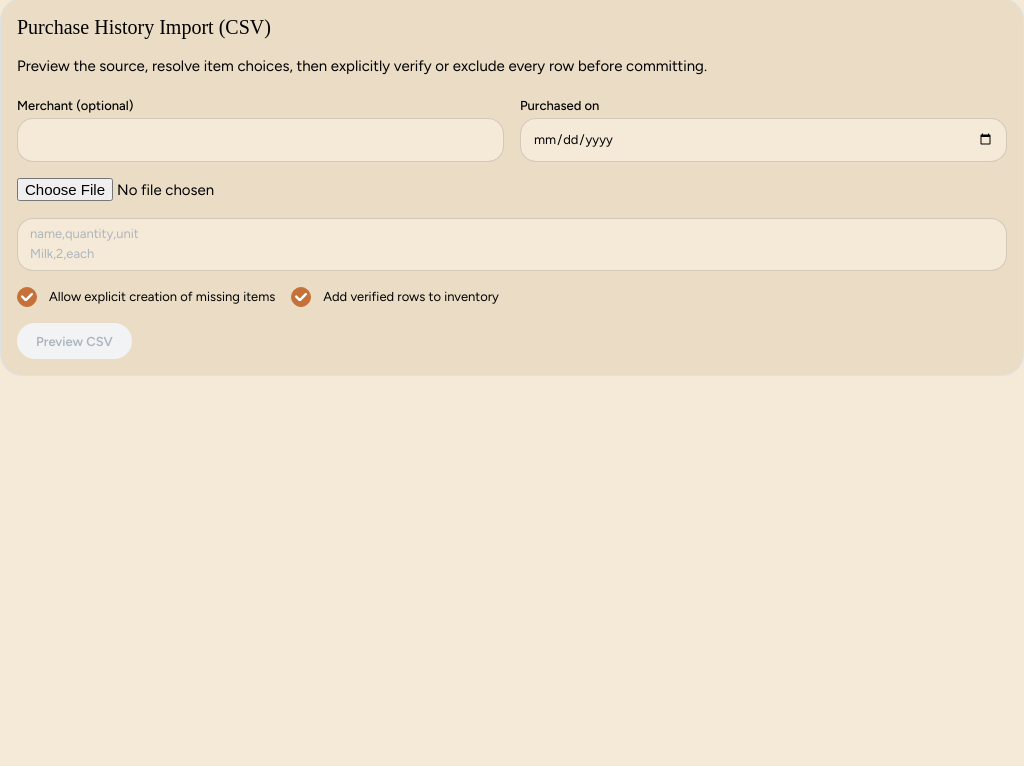
Reviewed purchase CSV › preserves manual completion when classifier is unavailable
This screenshot has width=1024, height=766.
Type "original CSV" into the text box named "Purchase CSV text" at (512, 244), box [17,218,1007,271]
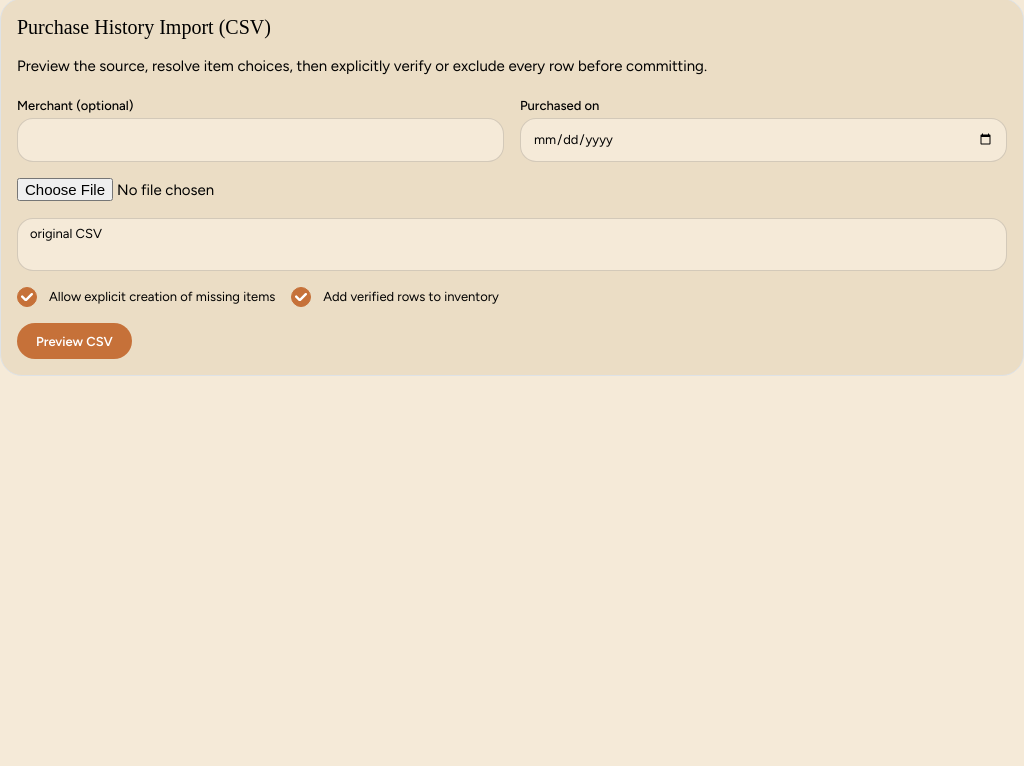
Click the button "Preview CSV" at (74, 341), box [17,323,132,359]
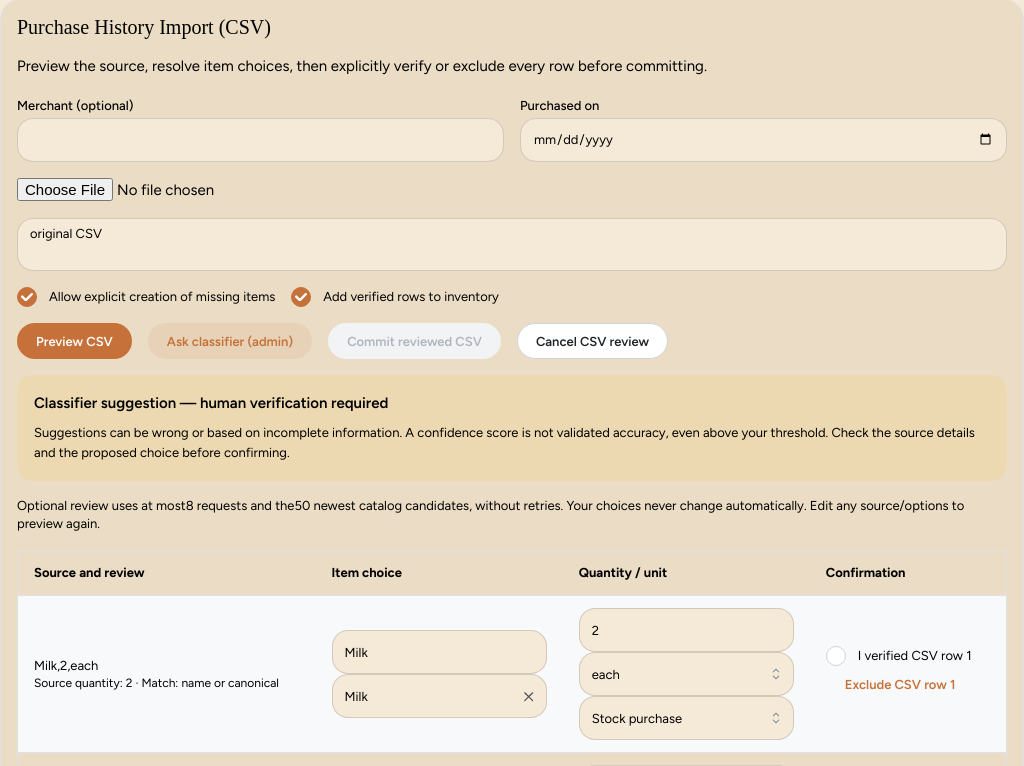
Expected: the field named "CSV item name 1" is shown, [332,630,547,674]
Click the button "Ask classifier (admin)" at (230, 341), box [148,323,312,359]
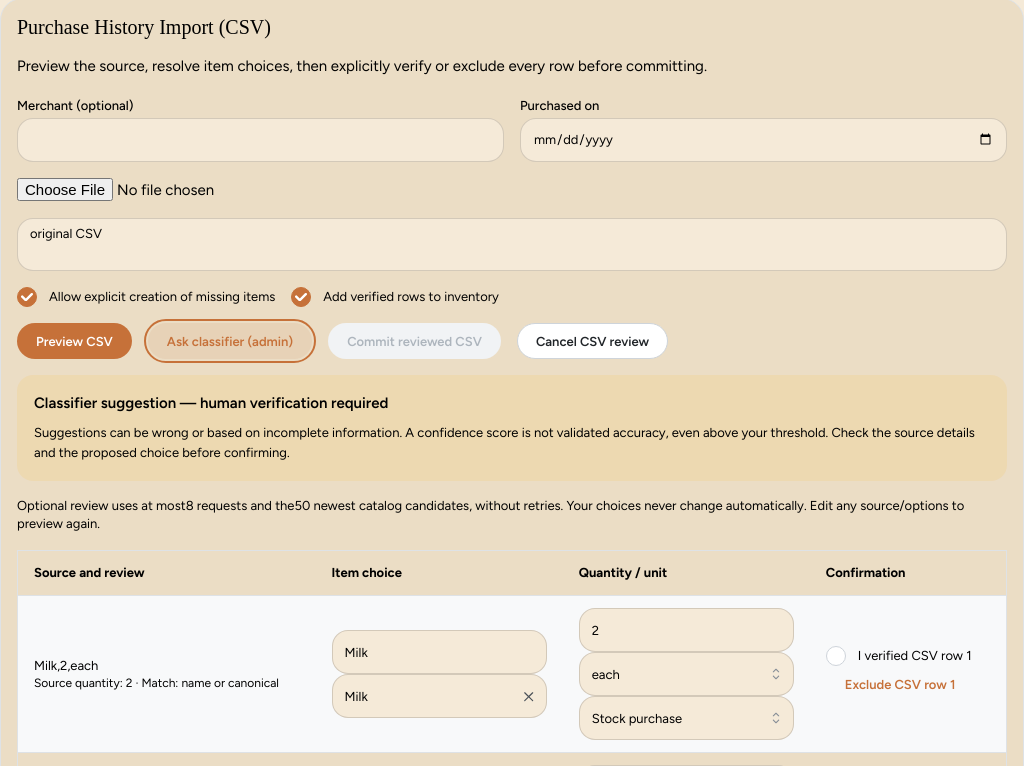
Click the checkbox labelled "I verified CSV row 1" at (836, 656), box [826,646,846,666]
(page scrolled)
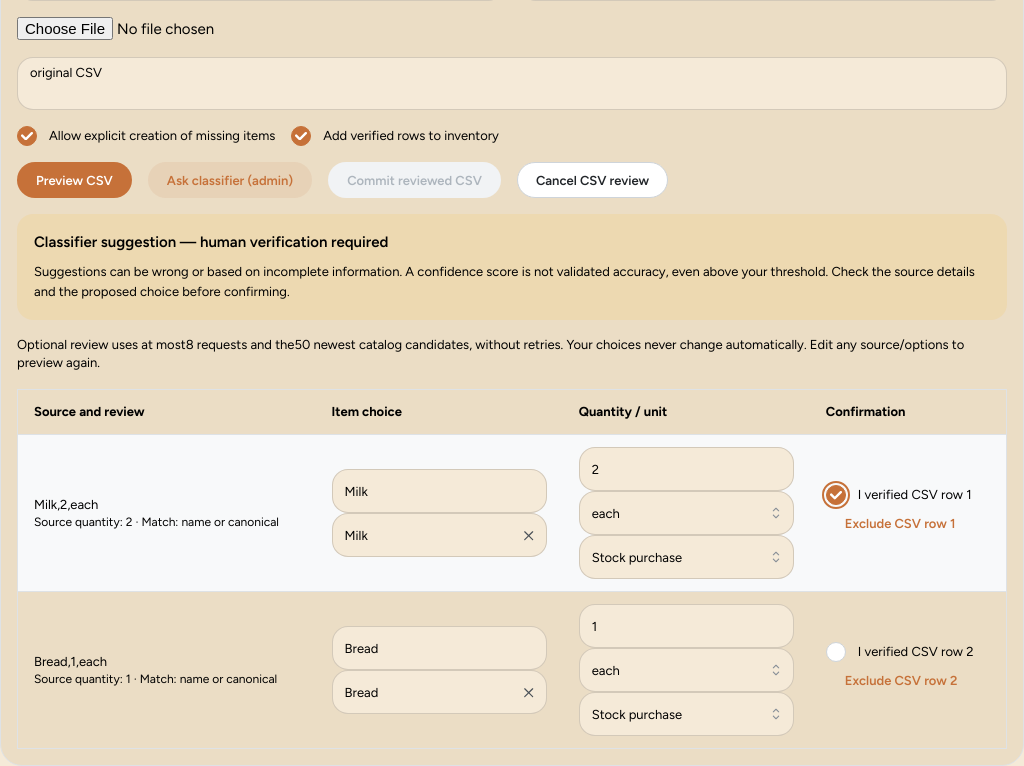
Click the checkbox labelled "I verified CSV row 2" at (836, 652), box [826,642,846,662]
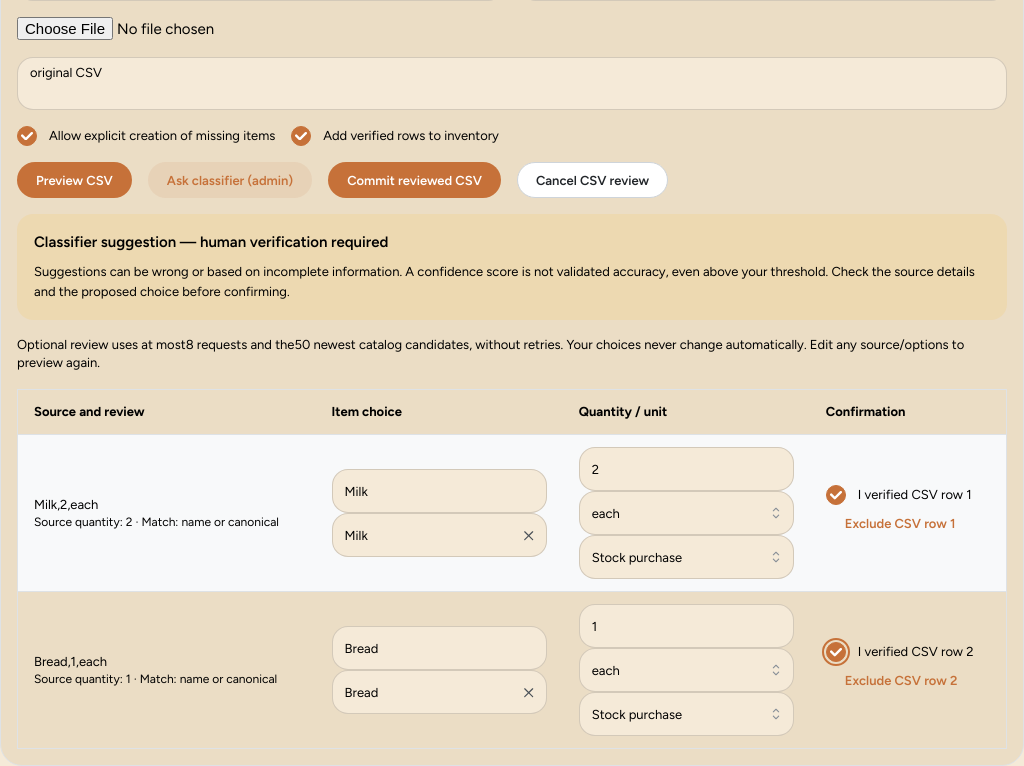
Expected: the button "Commit reviewed CSV" is enabled, [328,162,501,198]
